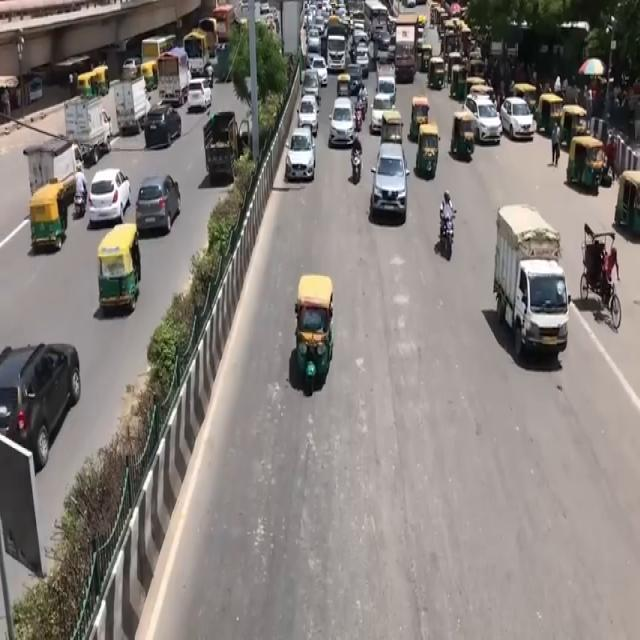MOTORCYCLE: (443, 217, 456, 263)
TRUCK: (497, 207, 572, 362), (185, 32, 212, 84)
